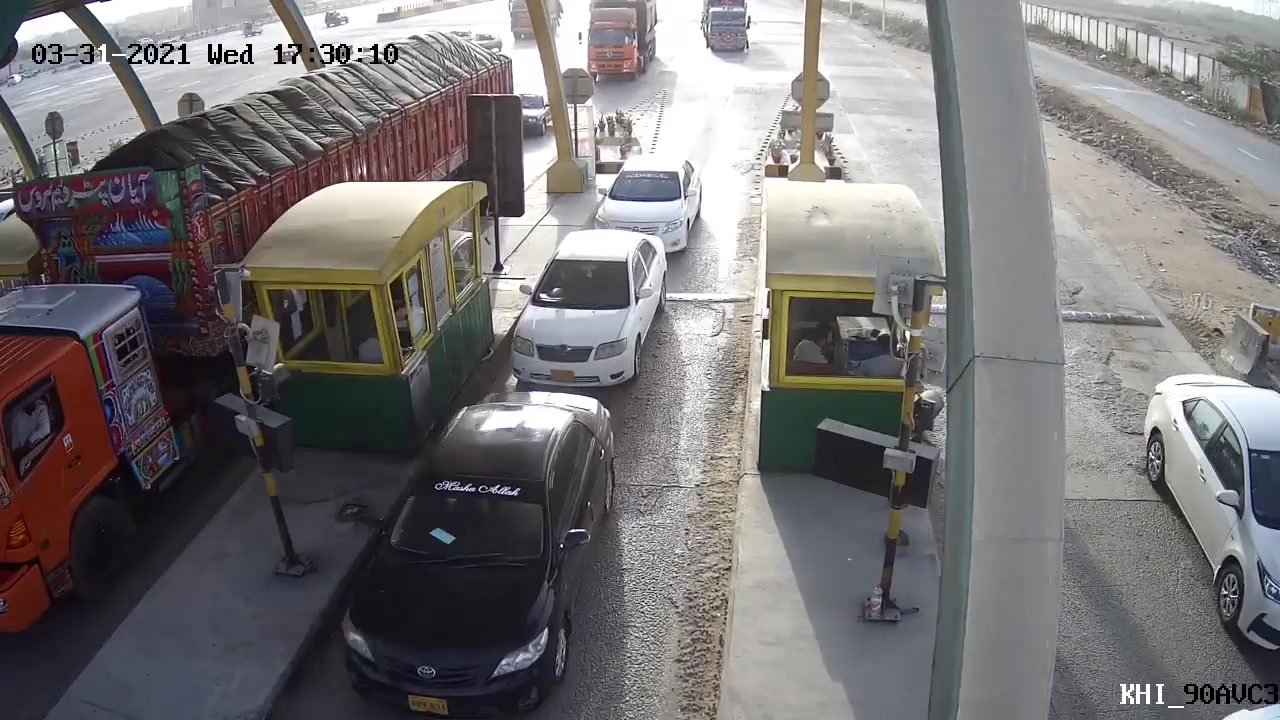F1: (327, 391, 618, 716), (501, 218, 674, 388)
